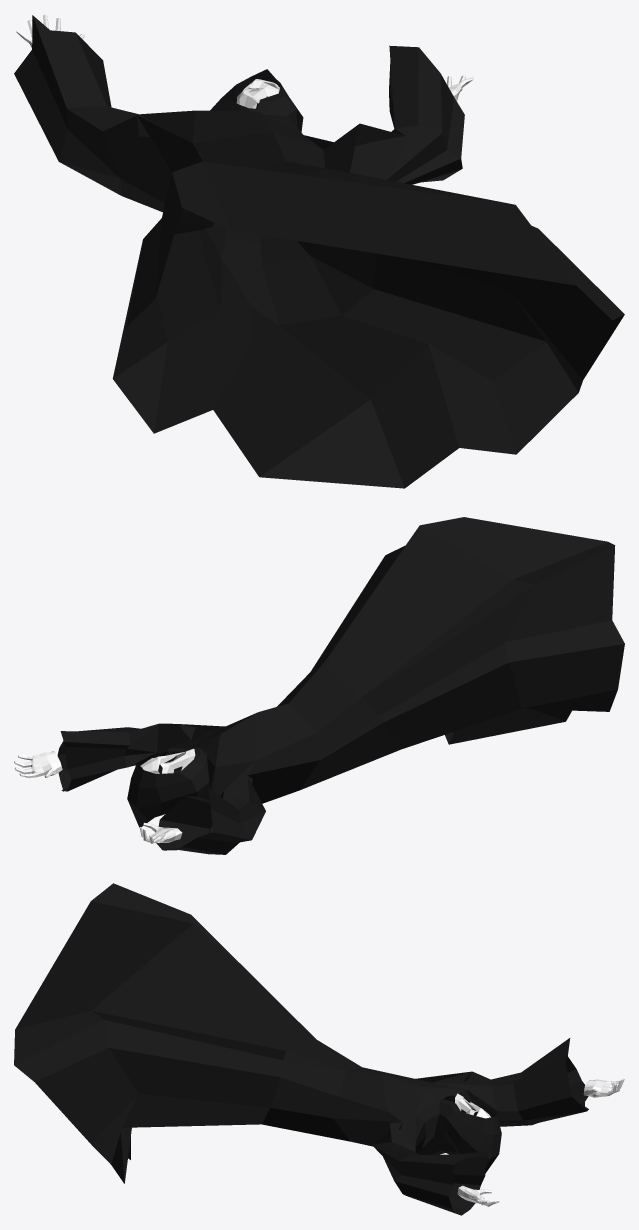
The model's file is ReaperDead(85).obj.
3 renders of one model, top to bottom at view 1: azimuth 30°, elevation 25°; view 2: azimuth 150°, elevation 25°; view 3: azimuth 270°, elevation 25°, orthographic. The views are drawn at different scales.
Visible parts, largest first — view 1: Plane003; view 2: Plane003; view 3: Plane003.
Boxes of the visible parts, x1,y1,x2,y2 form: Plane003: [14, 14, 624, 488]; Plane003: [14, 517, 624, 854]; Plane003: [14, 883, 624, 1215].
Bounding box in the file's own units: 208 × 109 × 291.
